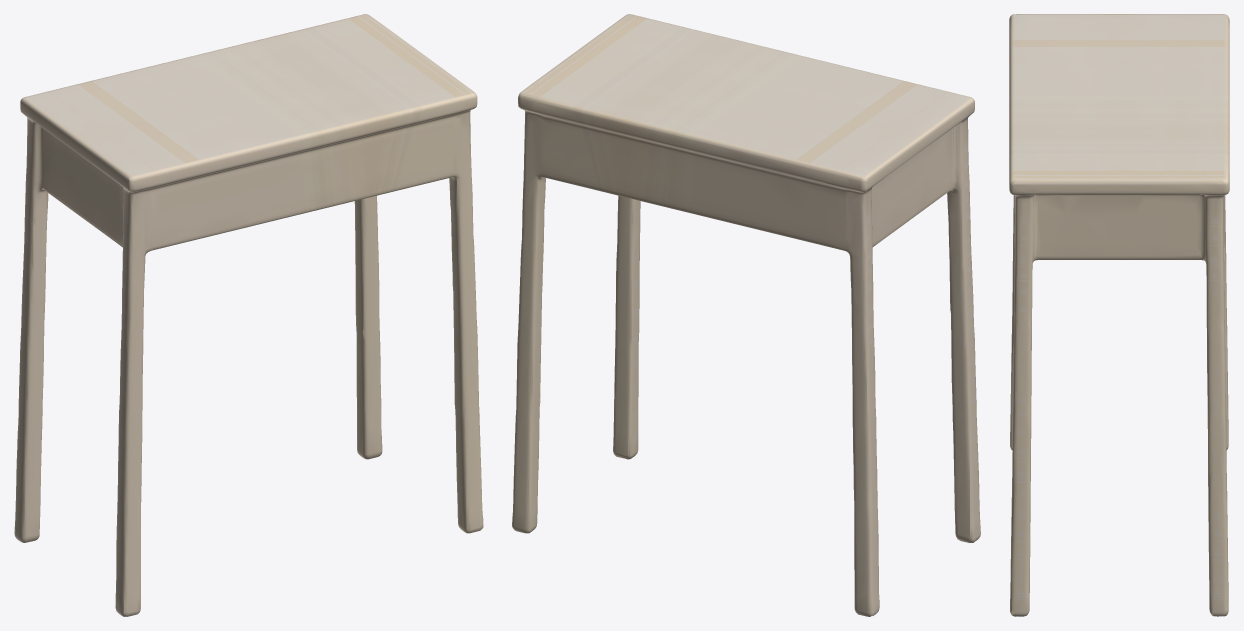
The model's file is desk.glb.
The picture shows the model from 3 angles, left to right: view 1: azimuth 30°, elevation 25°; view 2: azimuth 150°, elevation 25°; view 3: azimuth 270°, elevation 25°; orthographic projection.
Visible parts, largest first — view 1: Mesh_0; view 2: Mesh_0; view 3: Mesh_0.
Boxes of the visible parts, x1,y1,x2,y2 form: Mesh_0: [14, 14, 483, 616]; Mesh_0: [512, 14, 980, 616]; Mesh_0: [1009, 14, 1229, 616].
Bounding box in the file's own units: 1.03 × 1.2 × 0.5509.
Materials: 1 (1 with a texture image).
